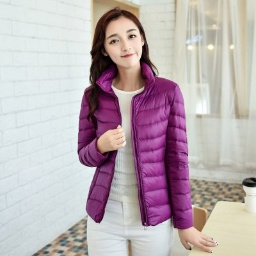face: (93, 6, 157, 82)
